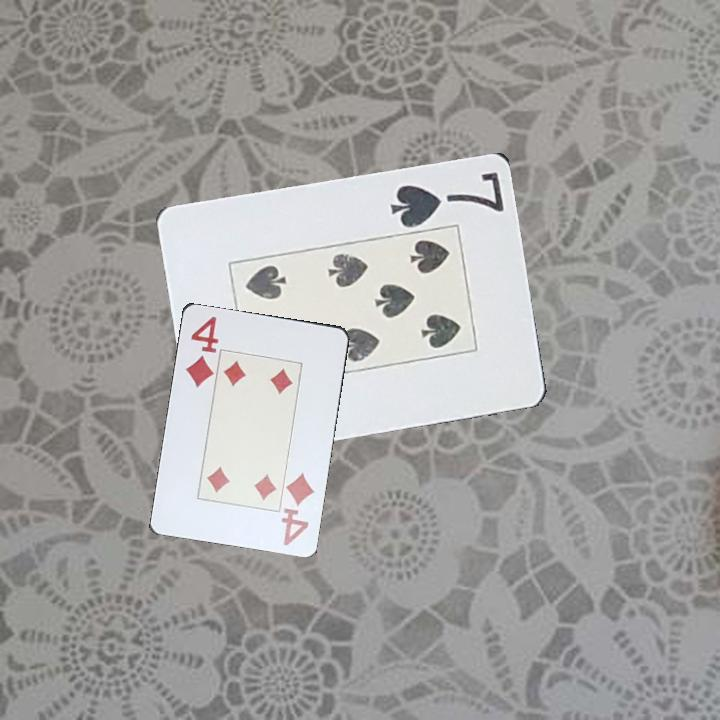4d: (181, 312, 221, 390), (278, 468, 317, 548)
7s: (387, 168, 507, 230)
